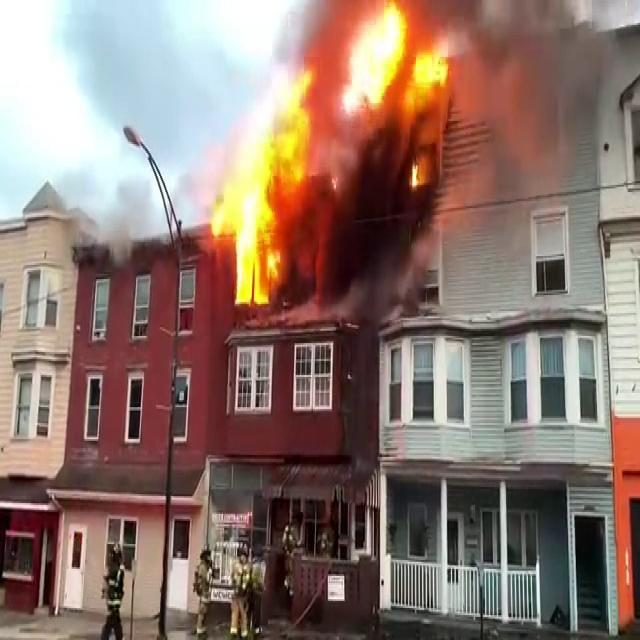Fire: (286, 0, 454, 302), (207, 51, 321, 312)
Smoke: (440, 0, 622, 224)
